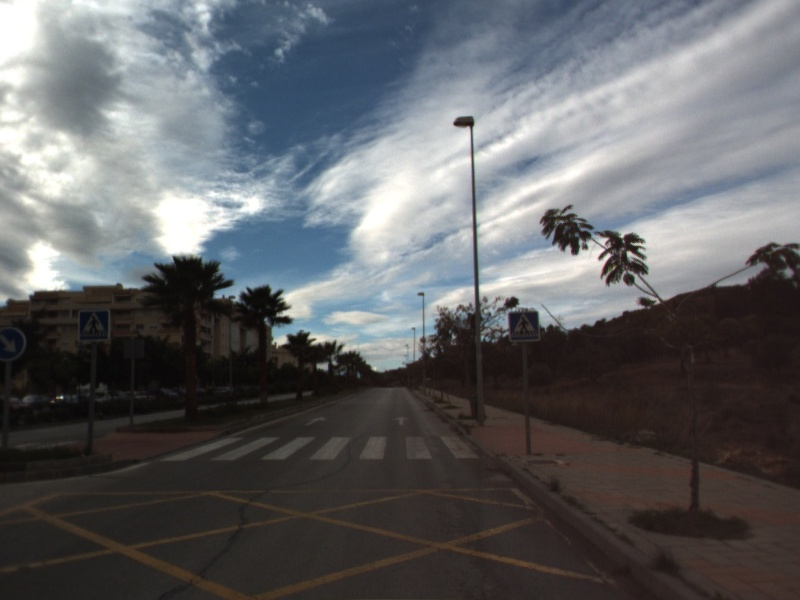STRAIGHT: (302, 414, 328, 427), (391, 414, 411, 427)
